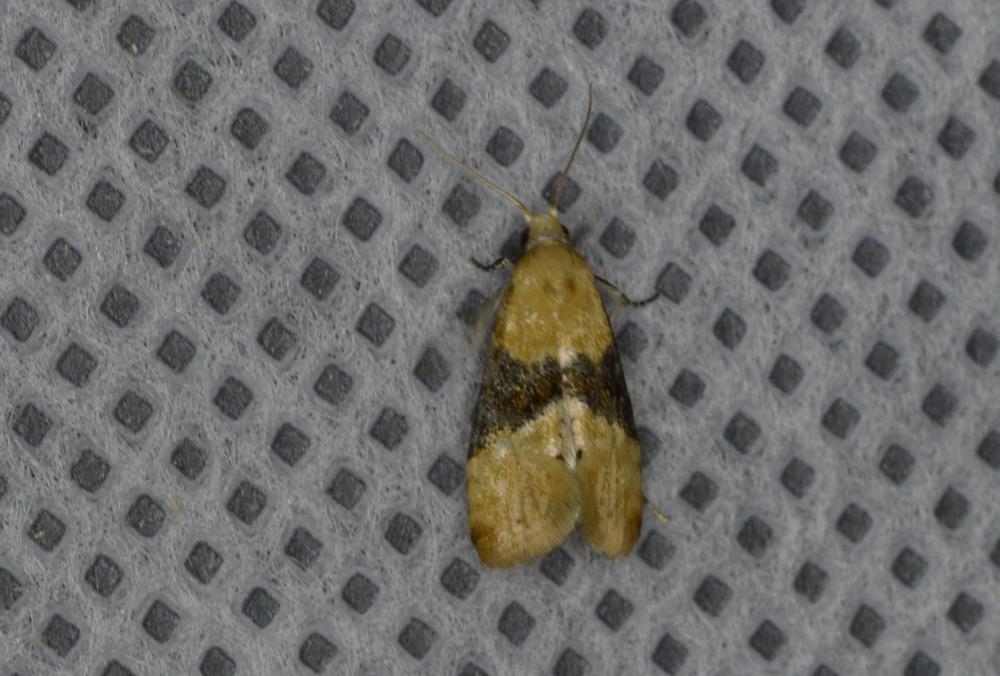Eupoecilia Ambiguella: (413, 79, 673, 572)
